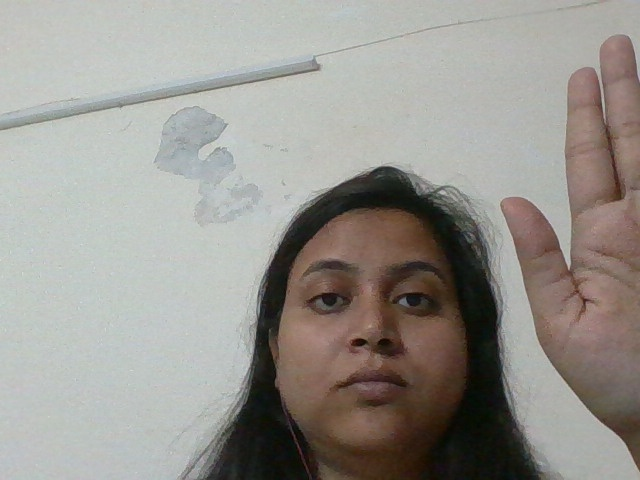pause: (493, 43, 640, 440)
